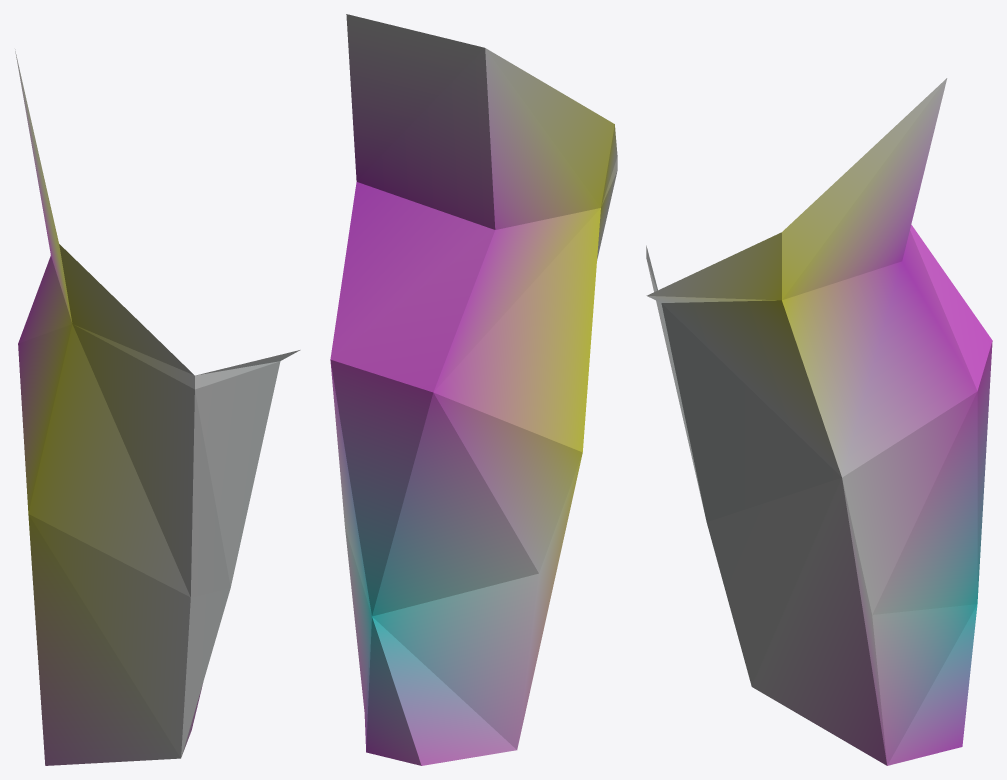
3 views of the same model, side by side, from view 1: azimuth 30°, elevation 25°; view 2: azimuth 150°, elevation 25°; view 3: azimuth 270°, elevation 25° (orthographic). The views are drawn at different scales.
Parts seen in each view (by area): view 1: model_1150; view 2: model_1150; view 3: model_1150.
Boxes of the visible parts, x1,y1,x2,y2 form: model_1150: (15,49,300,765); model_1150: (330,14,617,765); model_1150: (646,78,992,765).
Bounding box in the file's own units: 18 × 50 × 23.
